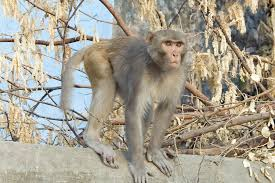monkey: (56, 11, 219, 168)
